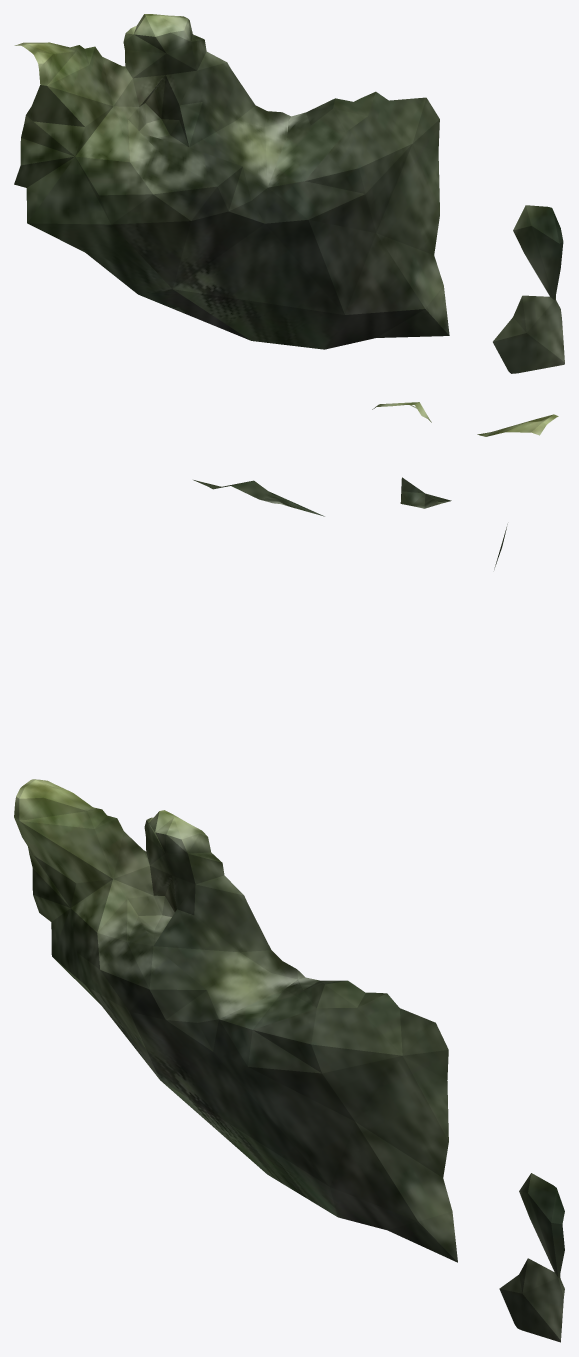
3 views of the same model, one above another, from view 1: azimuth 30°, elevation 25°; view 2: azimuth 150°, elevation 25°; view 3: azimuth 330°, elevation 25° (orthographic). The views are drawn at different scales.
Bounding box in the file's own units: 2.95 × 2.35 × 0.4152.
1 material, 1 textured.
